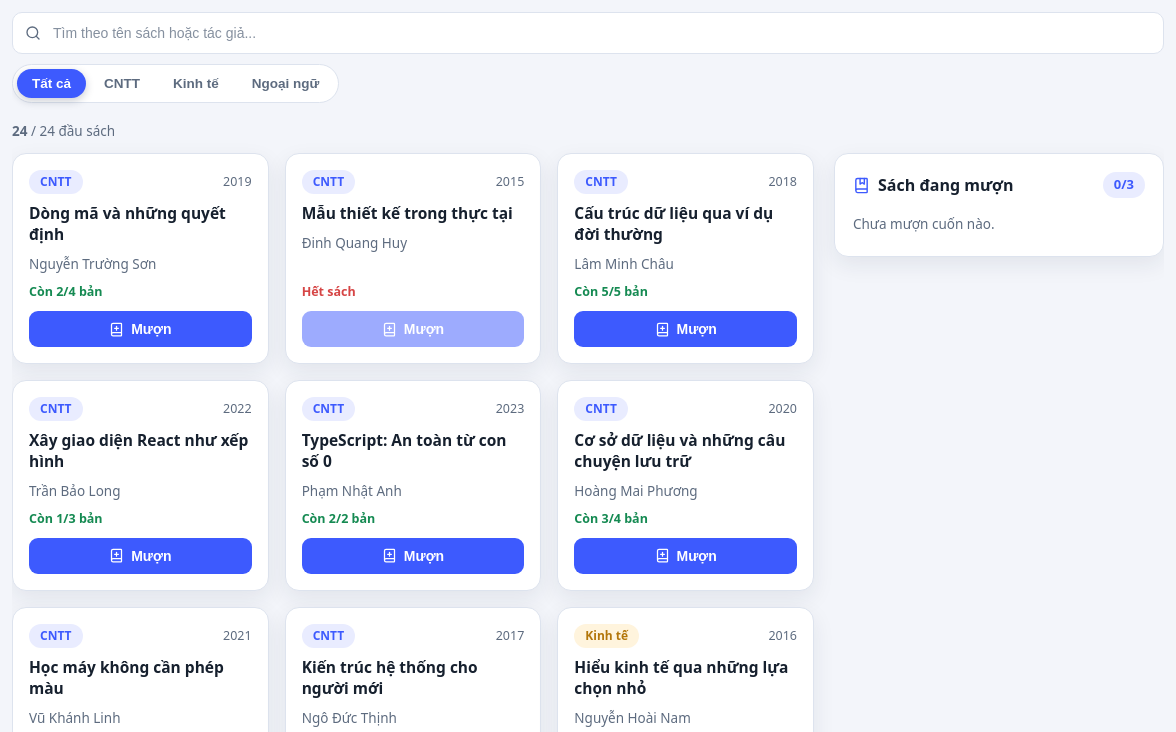
Test: BooksPage (tích hợp) › lọc sách theo từ khoá tác giả (có debounce)
Check: the heading "Dòng mã và những quyết định" is shown, box [29,203,252,245]
In the field named "Tìm kiếm sách": [588, 33] box [12,12,1164,54], type "hoài nam"
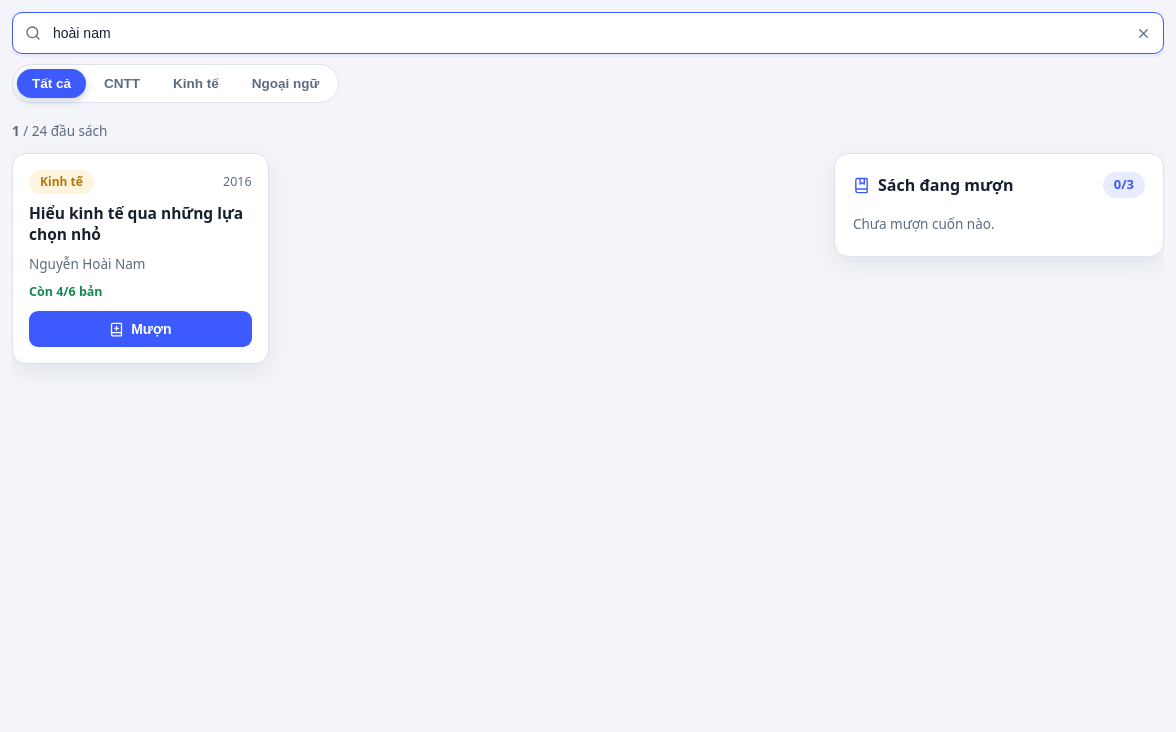
Check: the heading "Hiểu kinh tế qua những lựa chọn nhỏ" is shown, box [29,203,252,245]
Check: the heading "Dòng mã và những quyết định" is gone
